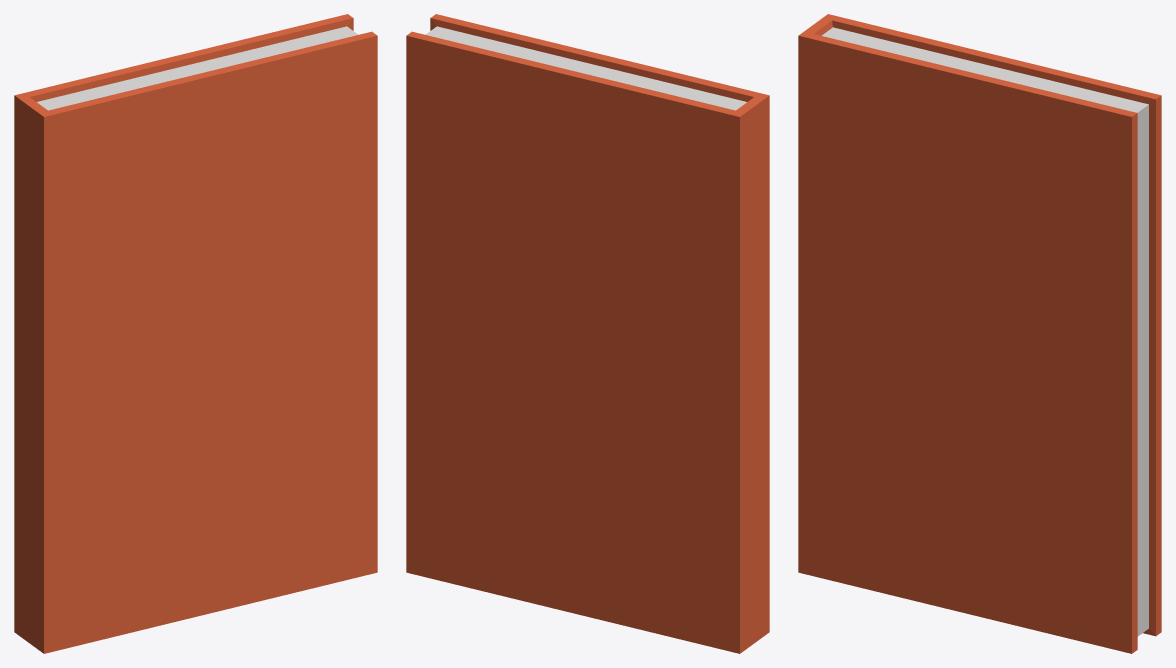
File: Book.fbx
3 views of the same model, side by side, from view 1: azimuth 30°, elevation 25°; view 2: azimuth 150°, elevation 25°; view 3: azimuth 330°, elevation 25° (orthographic).
Parts seen in each view (by area): view 1: Book; view 2: Book; view 3: Book.
Part boxes in pixels (x1,y1,x2,y2): Book: (14, 14, 377, 653); Book: (406, 14, 769, 653); Book: (798, 14, 1161, 653).
Size of the model in its own units: 13 by 20 by 2.
